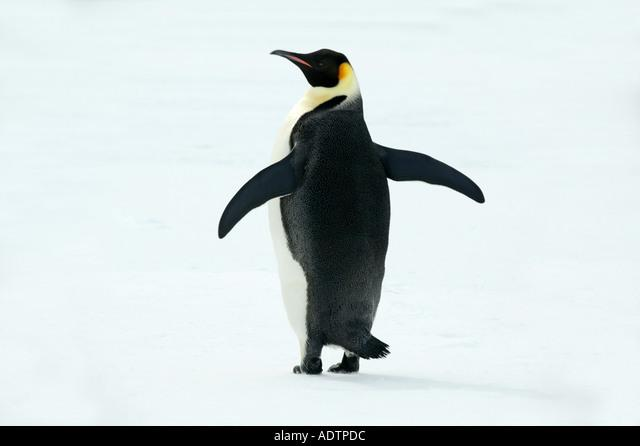emporer: (206, 27, 496, 389)
